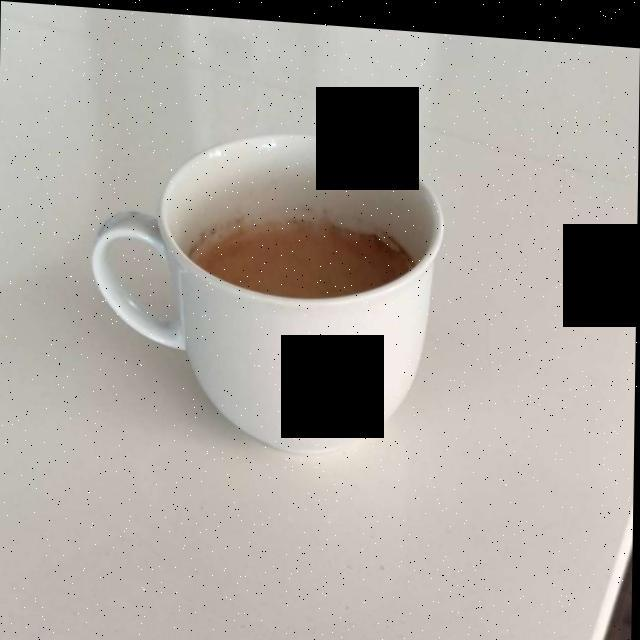espresso: (211, 207, 398, 280)
